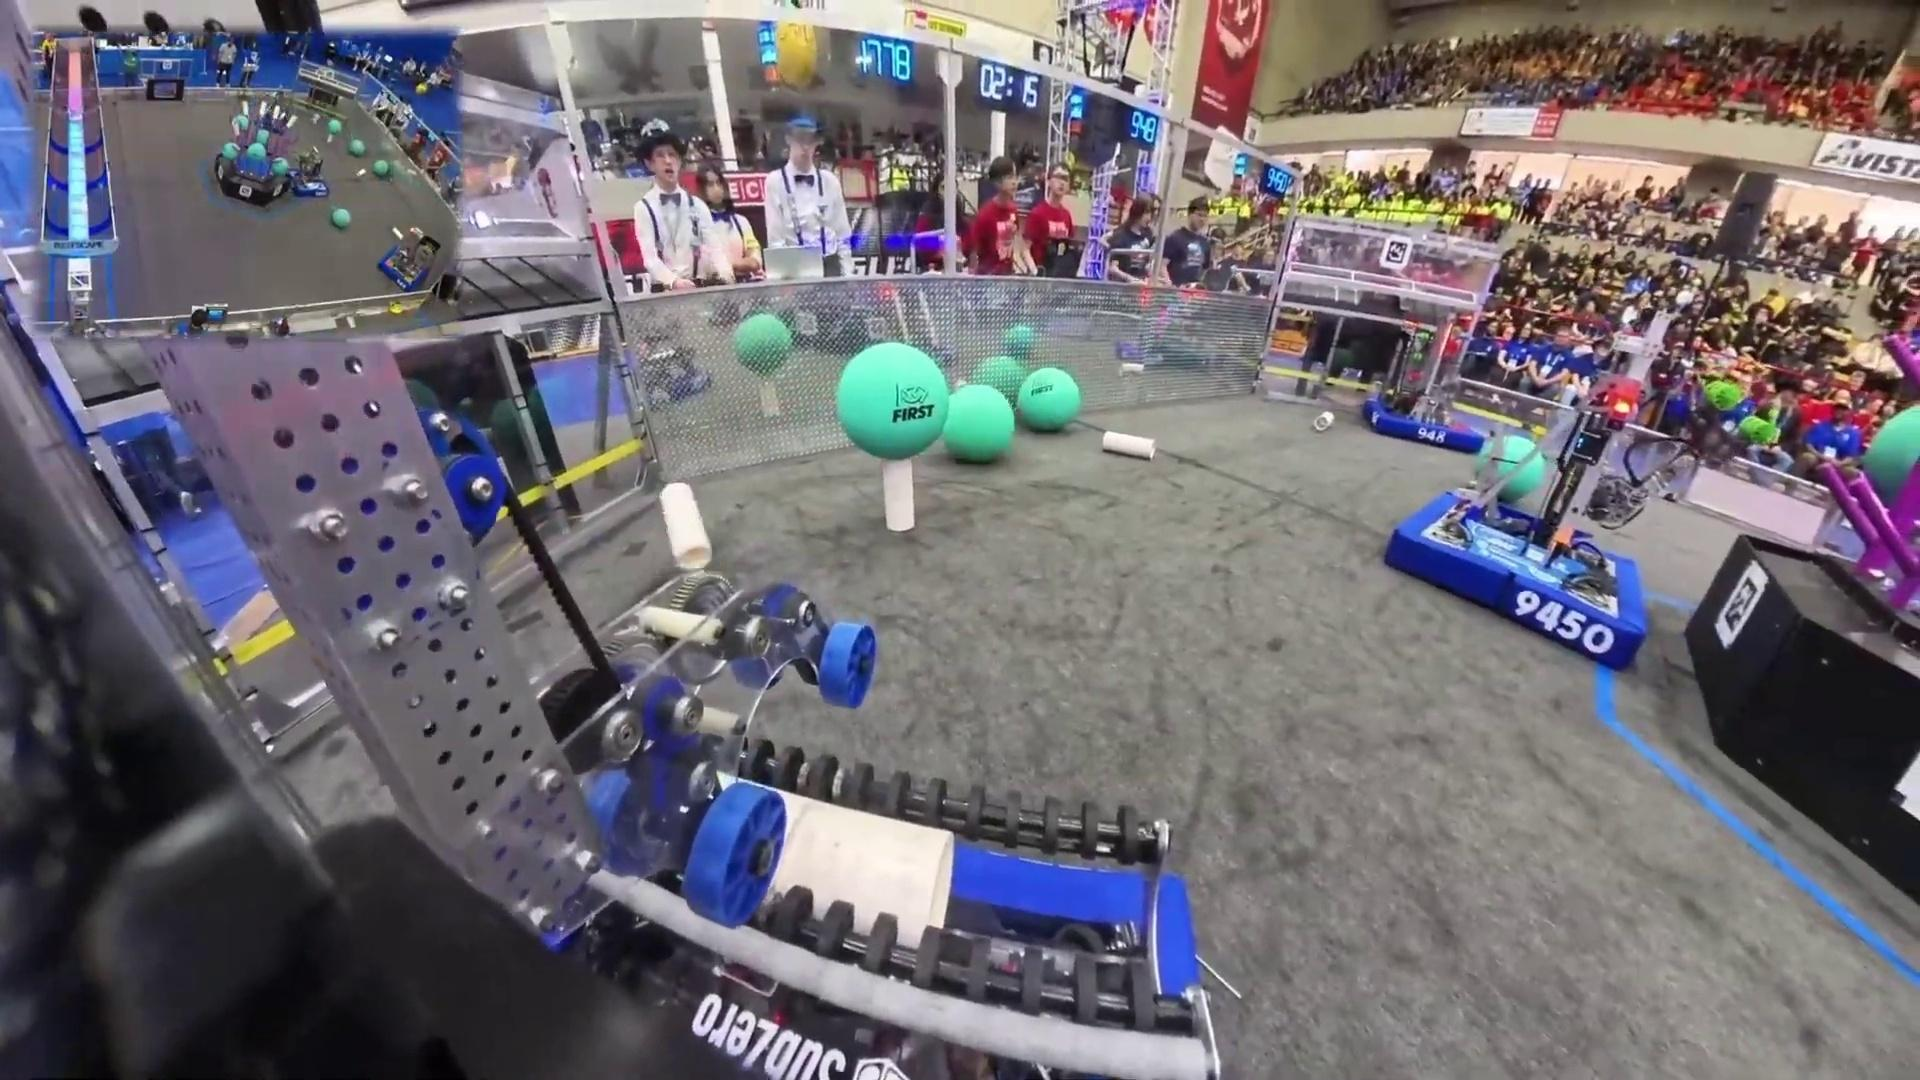robot: (1381, 332, 1651, 671), (1366, 315, 1485, 454), (378, 224, 440, 291), (289, 145, 332, 199)
